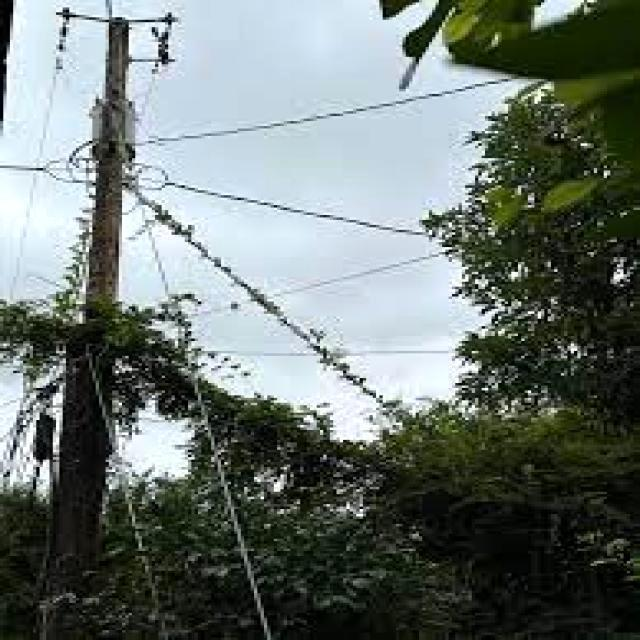critical vegetation: (26, 7, 204, 446)
